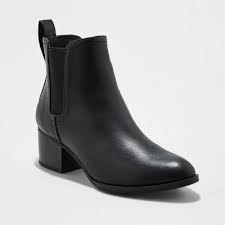woman_hight_shoe: (19, 17, 203, 199)
